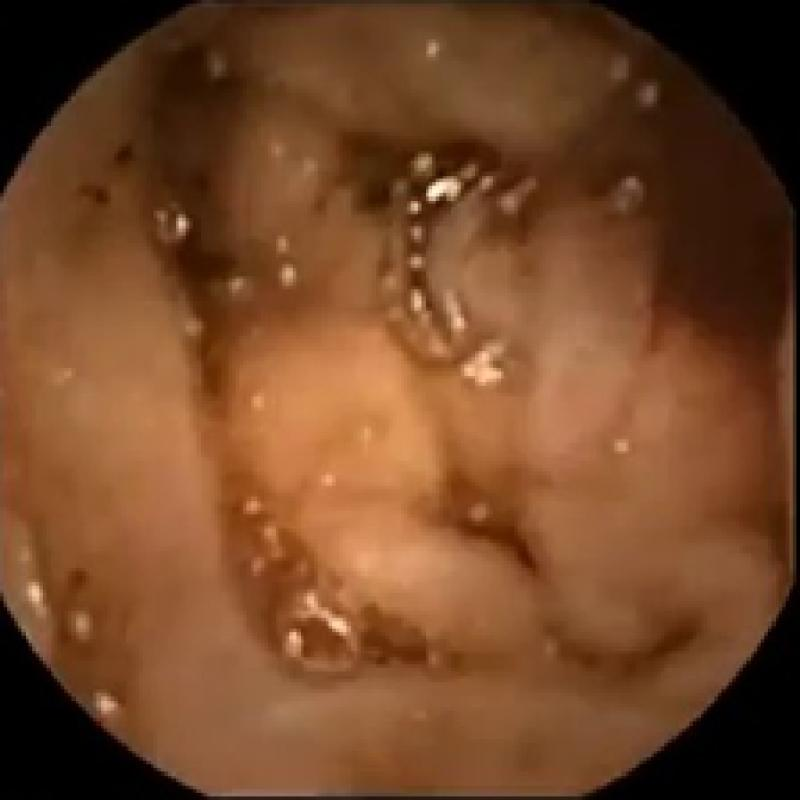bleeding: (646, 53, 793, 372), (406, 128, 512, 184), (165, 234, 237, 300), (72, 143, 138, 212)
